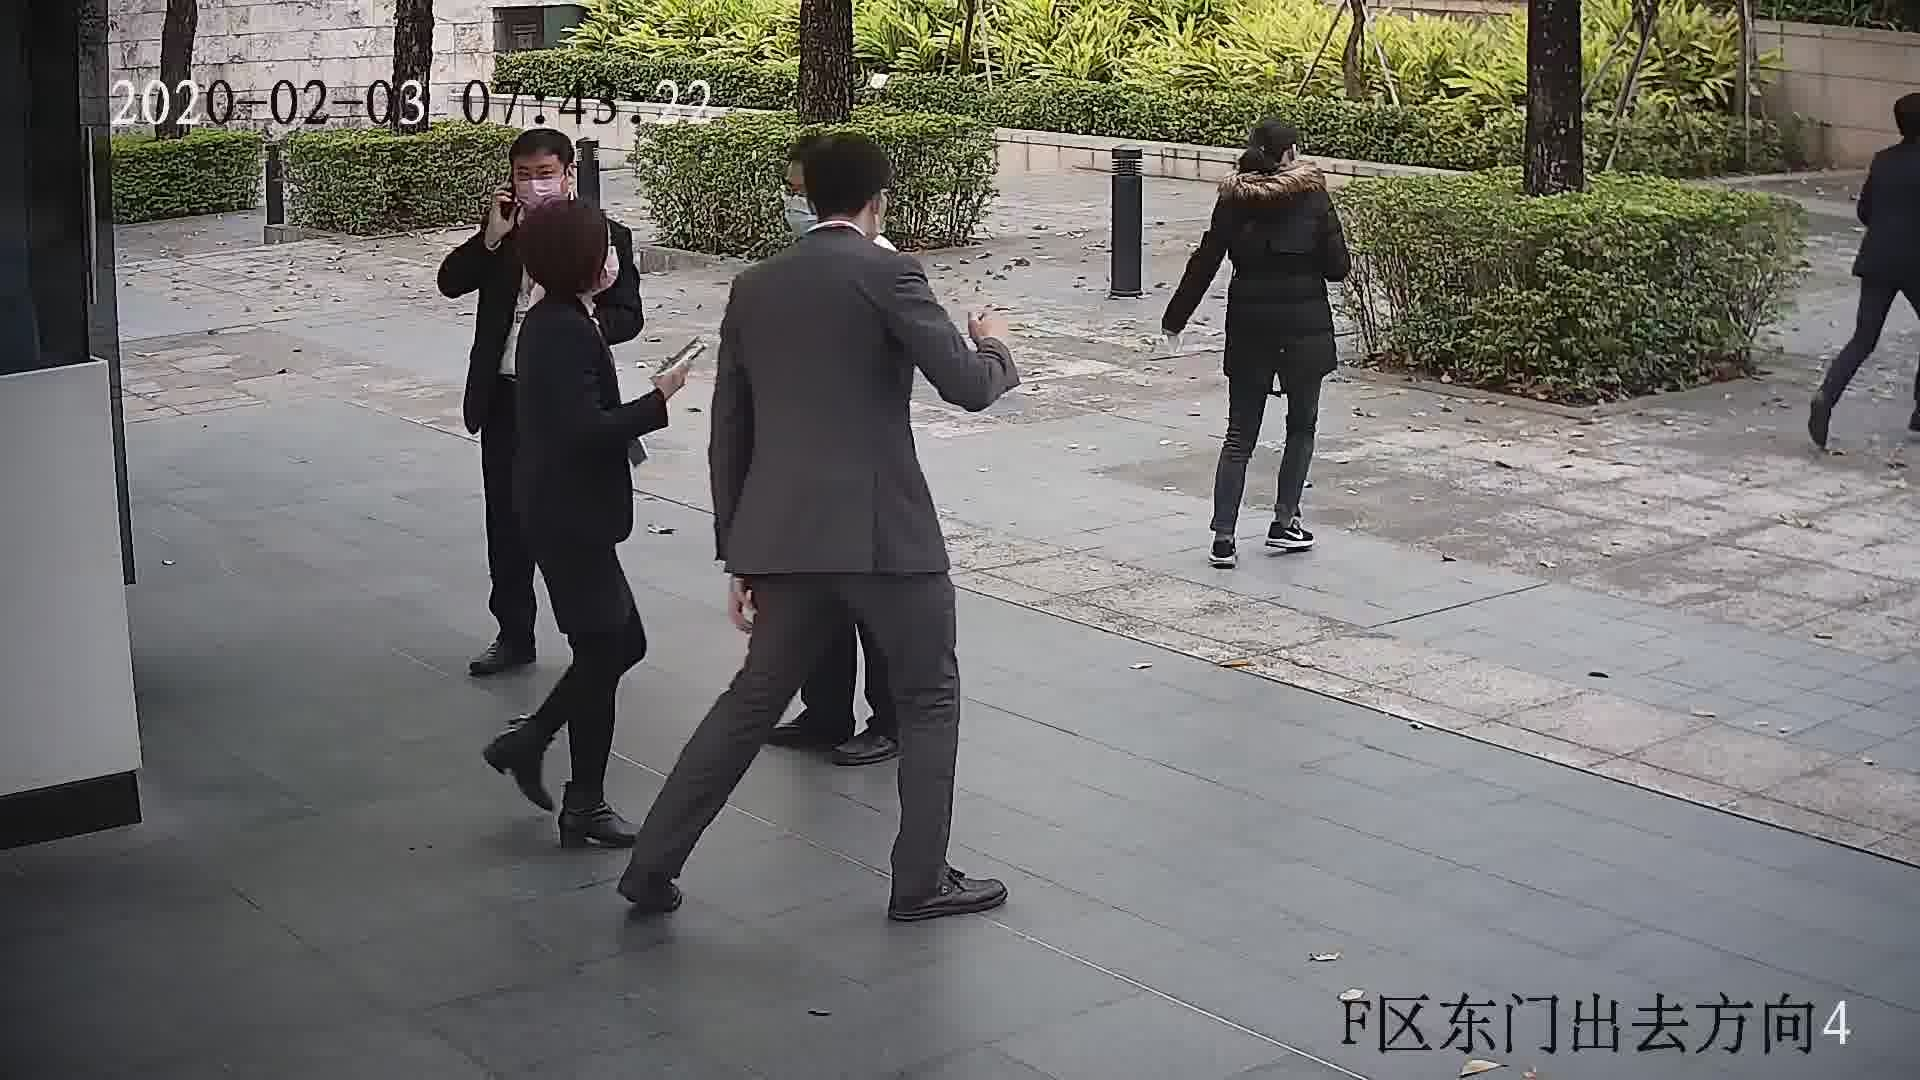face: (499, 144, 570, 215)
mask: (778, 188, 822, 235), (514, 175, 564, 206), (598, 245, 621, 293)
person: (731, 125, 928, 318), (504, 201, 632, 365), (471, 131, 636, 255), (1215, 115, 1339, 227), (1871, 91, 1920, 178)
